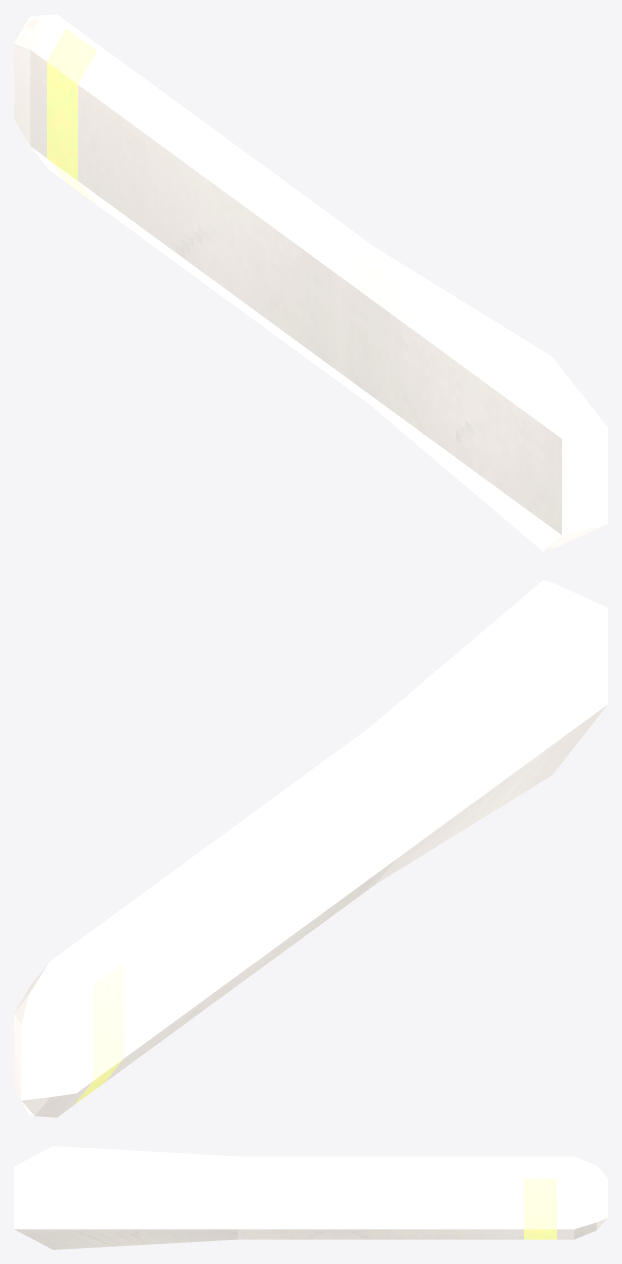
The model's file is arm_gltf.glb.
The picture shows the model from 3 angles, top to bottom: view 1: azimuth 30°, elevation 25°; view 2: azimuth 150°, elevation 25°; view 3: azimuth 270°, elevation 25°; orthographic projection. The views are drawn at different scales.
Visible parts, largest first — view 1: Cube; view 2: Cube; view 3: Cube.
Boxes of the visible parts, bbox=[...] form: Cube: bbox=[14, 14, 607, 551]; Cube: bbox=[14, 580, 607, 1117]; Cube: bbox=[14, 1146, 607, 1249].
Bounding box in the file's own units: 0.5 × 2 × 10.6.
